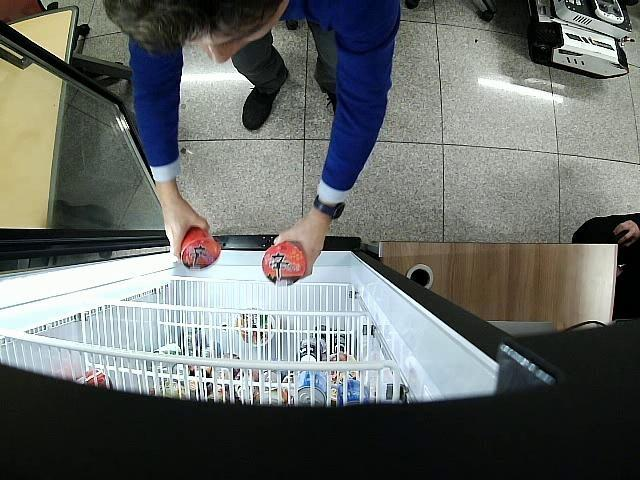02_shinRamen_S: (262, 242, 306, 287), (180, 226, 220, 270)
